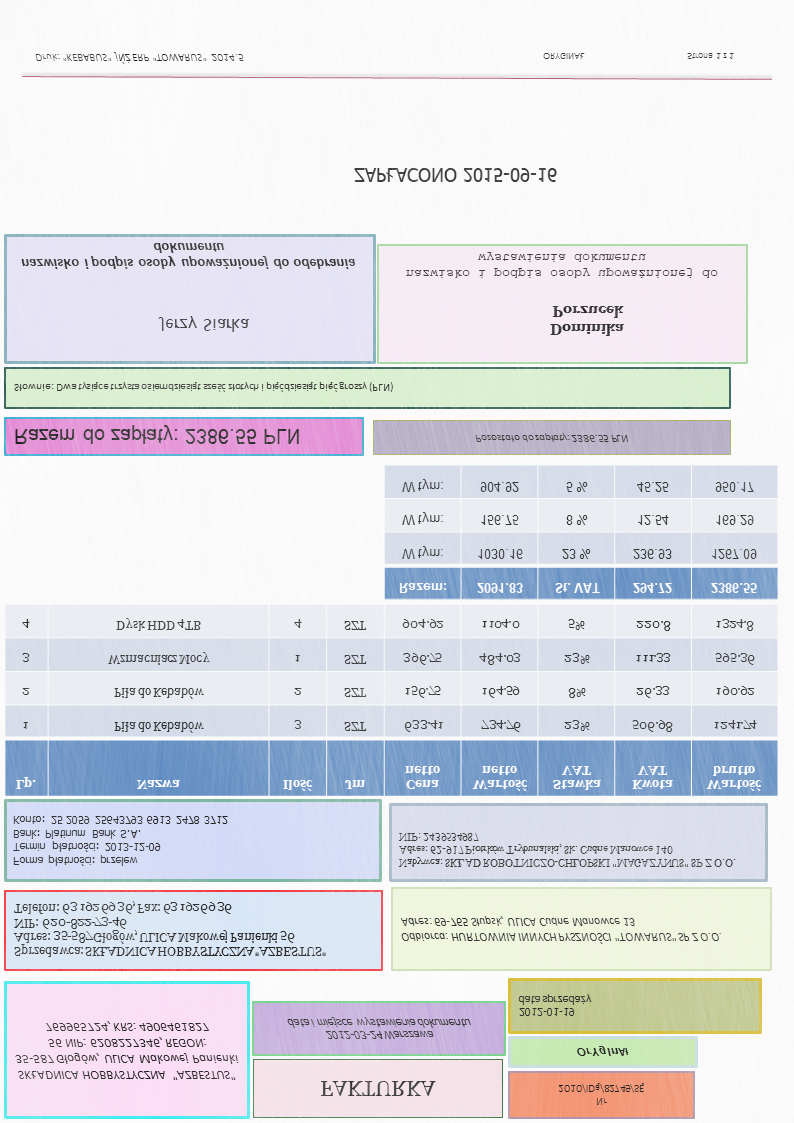Table: (3, 603, 780, 799), (382, 463, 779, 603)
TextBox: (10, 897, 331, 963), (11, 1018, 242, 1085), (395, 829, 738, 873), (10, 810, 232, 871), (19, 240, 359, 272), (402, 250, 722, 284), (398, 913, 724, 946), (11, 378, 397, 396), (12, 425, 301, 449), (283, 1014, 474, 1044), (351, 165, 562, 187), (33, 49, 248, 67), (546, 300, 629, 341), (539, 48, 738, 65), (317, 1077, 436, 1101), (554, 1080, 647, 1110), (472, 430, 631, 447), (153, 312, 253, 337), (516, 991, 593, 1022), (573, 1043, 631, 1063)
